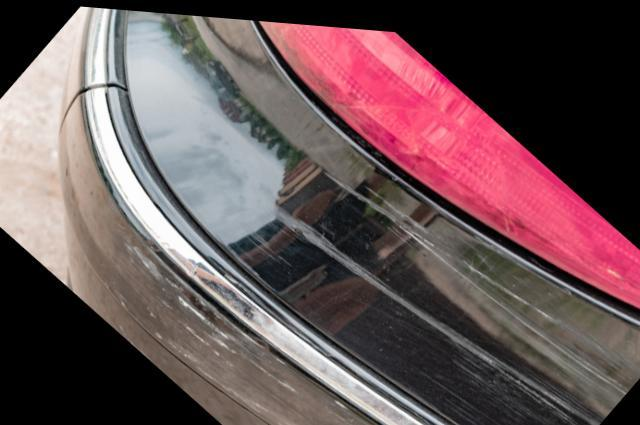scratch: (212, 168, 640, 425), (101, 227, 379, 425)
